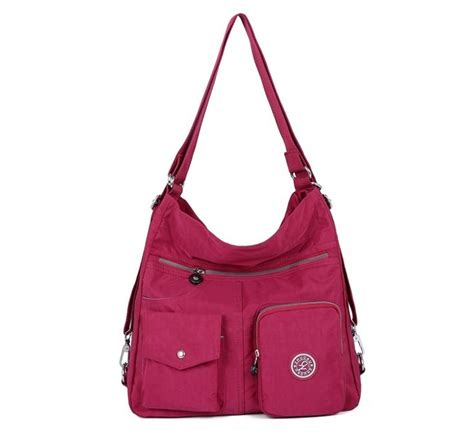nylon: (124, 184, 362, 419)
